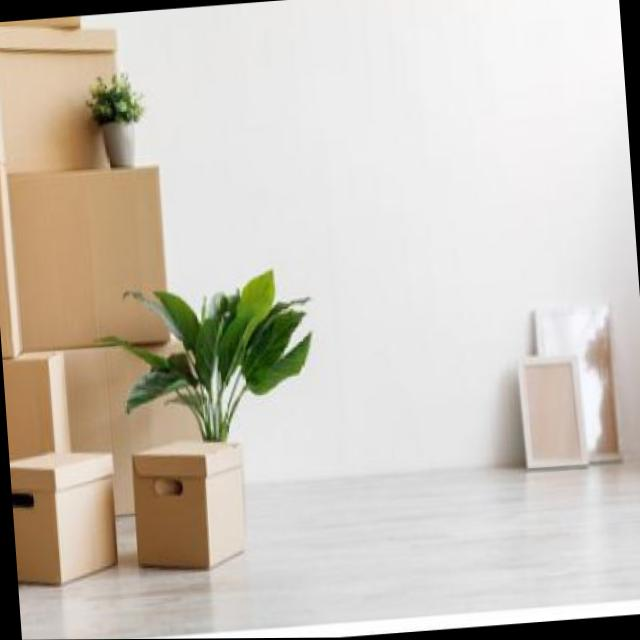box: (12, 157, 180, 352), (86, 335, 222, 517), (0, 12, 131, 181), (130, 438, 258, 583), (8, 440, 127, 595), (1, 346, 86, 455)
